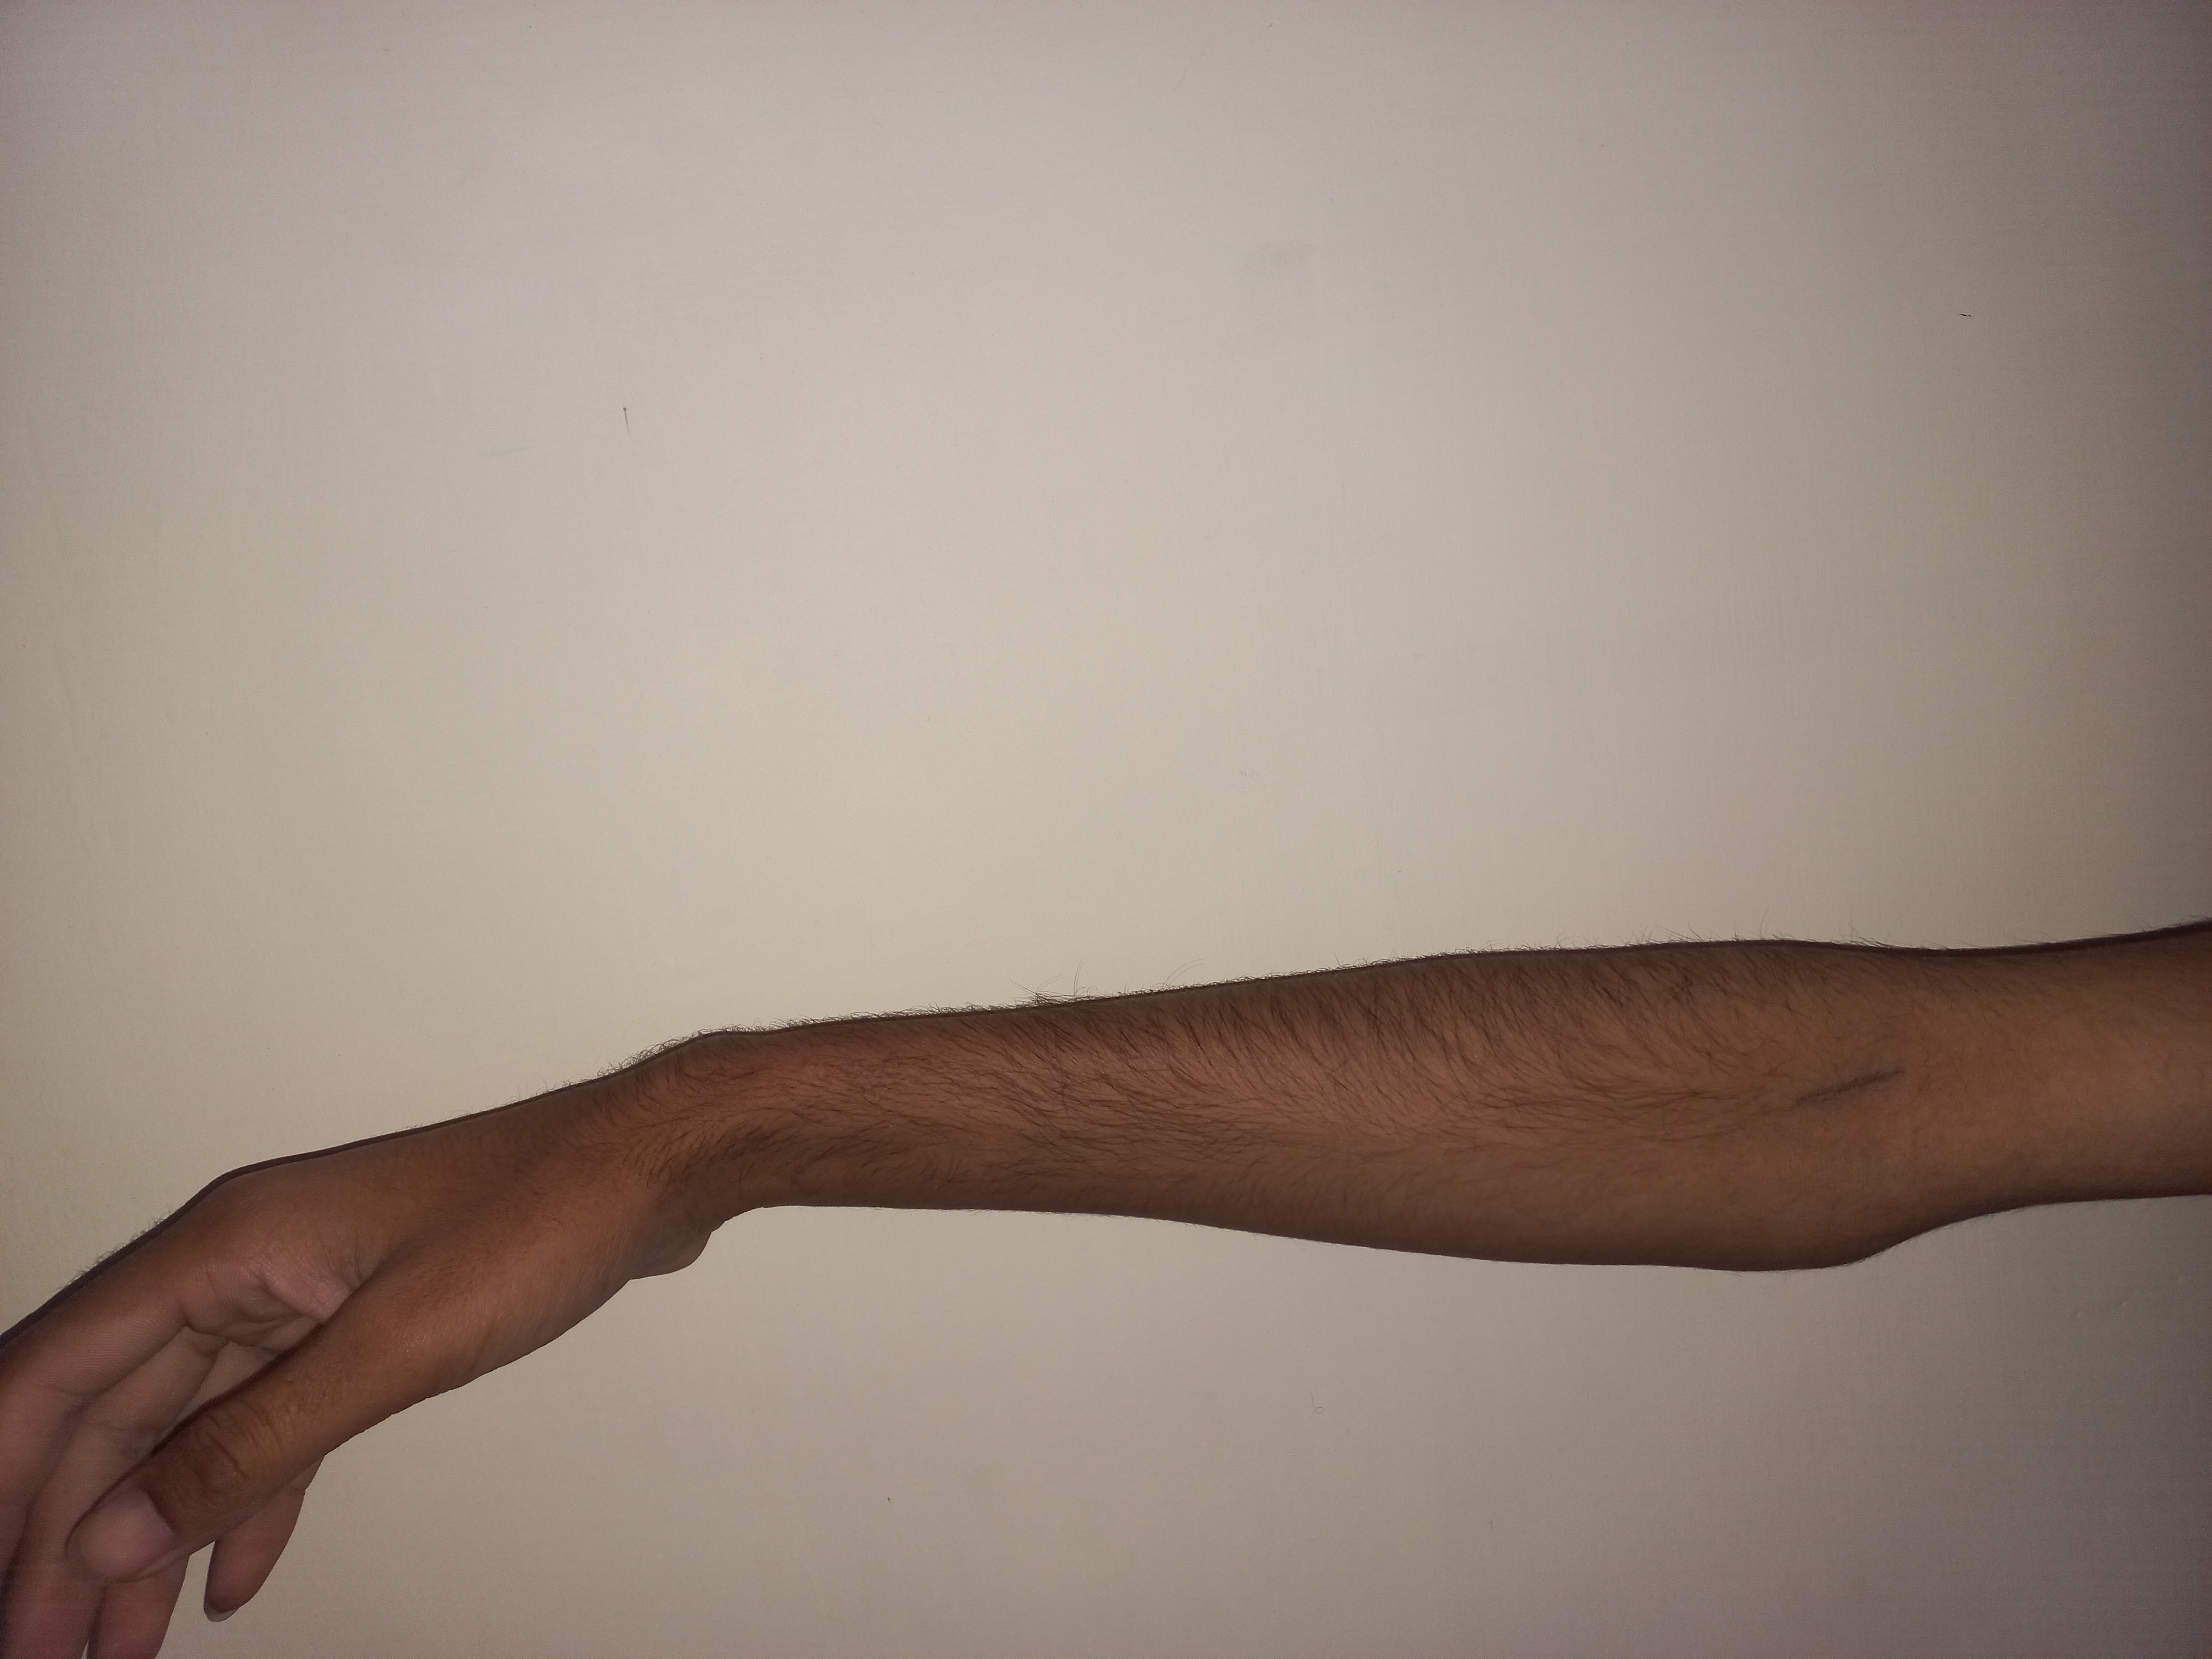vein: (1775, 1042, 1905, 1136)
